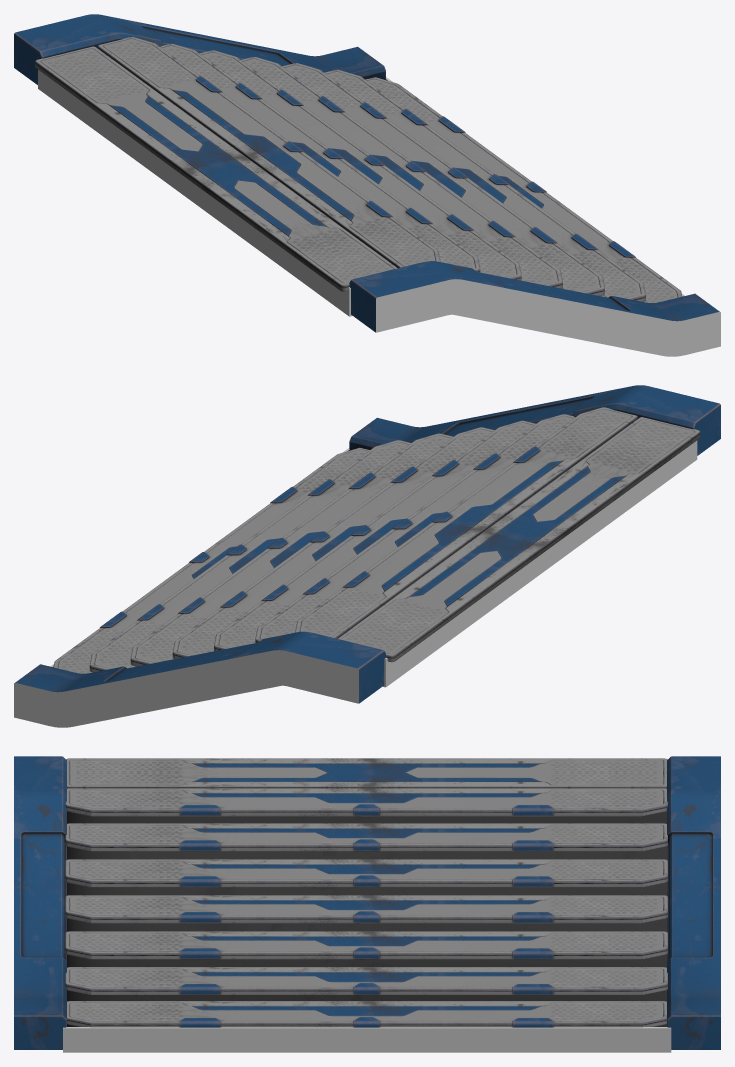
The model's file is SM_CorridorStair.fbx.
3 views of the same model, one above another, from view 1: azimuth 30°, elevation 25°; view 2: azimuth 150°, elevation 25°; view 3: azimuth 270°, elevation 25° (orthographic). The views are drawn at different scales.
Visible parts, largest first — view 1: SM_CorridorStair_LOD0; view 2: SM_CorridorStair_LOD0; view 3: SM_CorridorStair_LOD0.
Part boxes in pixels (box(x1,y1,x2,y2)): SM_CorridorStair_LOD0: box(14, 14, 720, 356); SM_CorridorStair_LOD0: box(14, 385, 720, 727); SM_CorridorStair_LOD0: box(14, 756, 720, 1052).
Size of the model in its own units: 423 by 750 by 154.
2 materials, 1 textured.
